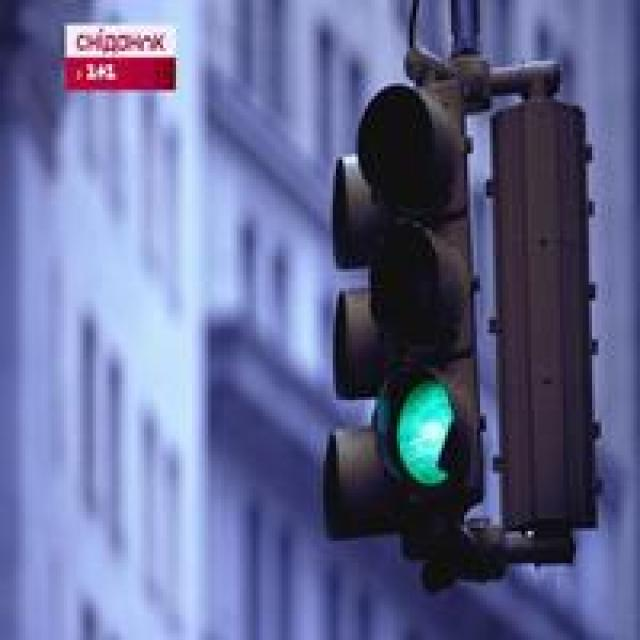green_light: (343, 368, 525, 520)
